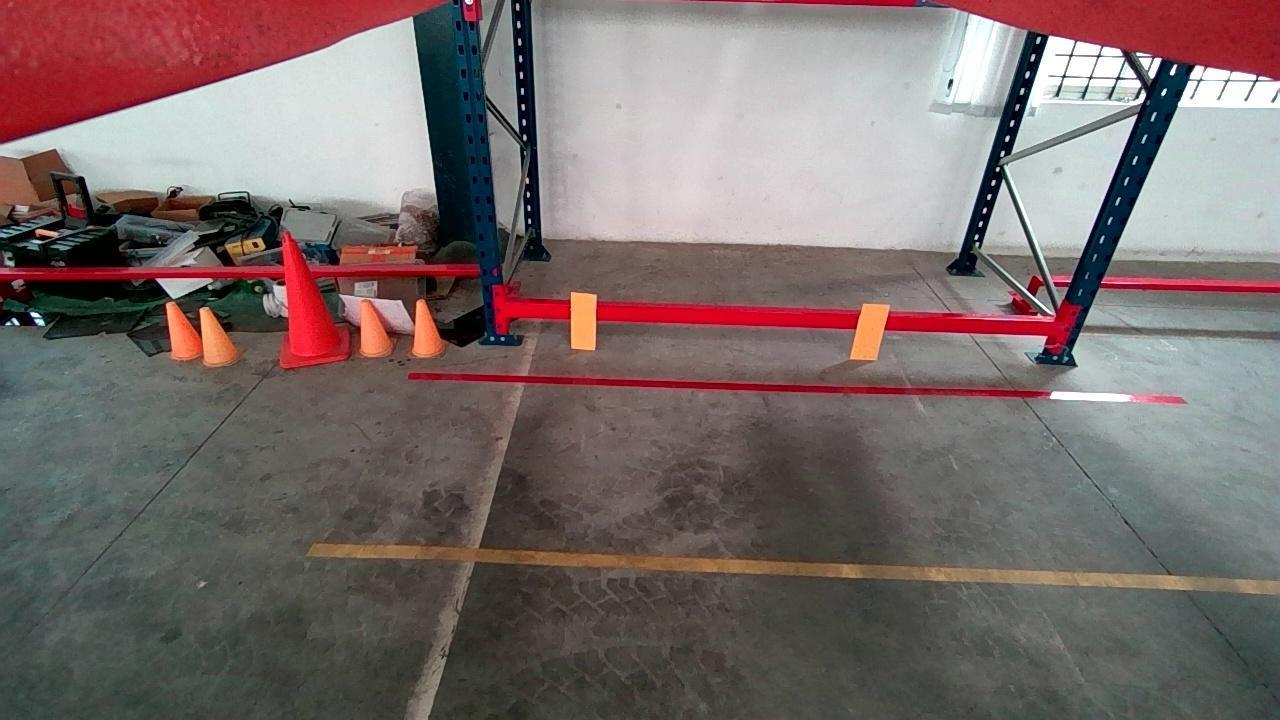h_rack: (508, 302, 1057, 336)
orange_strip: (848, 302, 891, 359), (571, 293, 596, 349)
red_line: (409, 369, 1191, 404)
yellow_line: (305, 543, 1280, 594)
